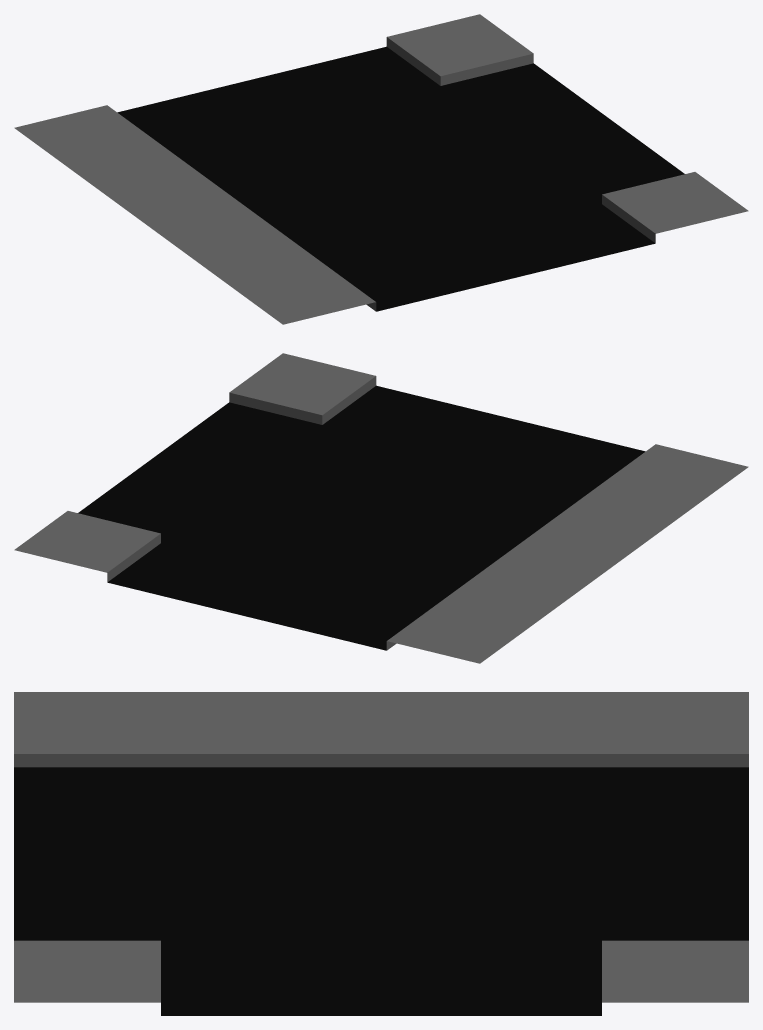
File: Road_TJunction.fbx
3 views of the same model, one above another, from view 1: azimuth 30°, elevation 25°; view 2: azimuth 150°, elevation 25°; view 3: azimuth 270°, elevation 25° (orthographic). The views are drawn at different scales.
Parts seen in each view (by area): view 1: Road_TJunction; view 2: Road_TJunction; view 3: Road_TJunction.
Part boxes in pixels (x1,y1,x2,y2): Road_TJunction: (14, 14, 748, 324); Road_TJunction: (14, 353, 748, 663); Road_TJunction: (14, 692, 748, 1015).
Bounding box in the file's own units: 10 × 0.2 × 10.
